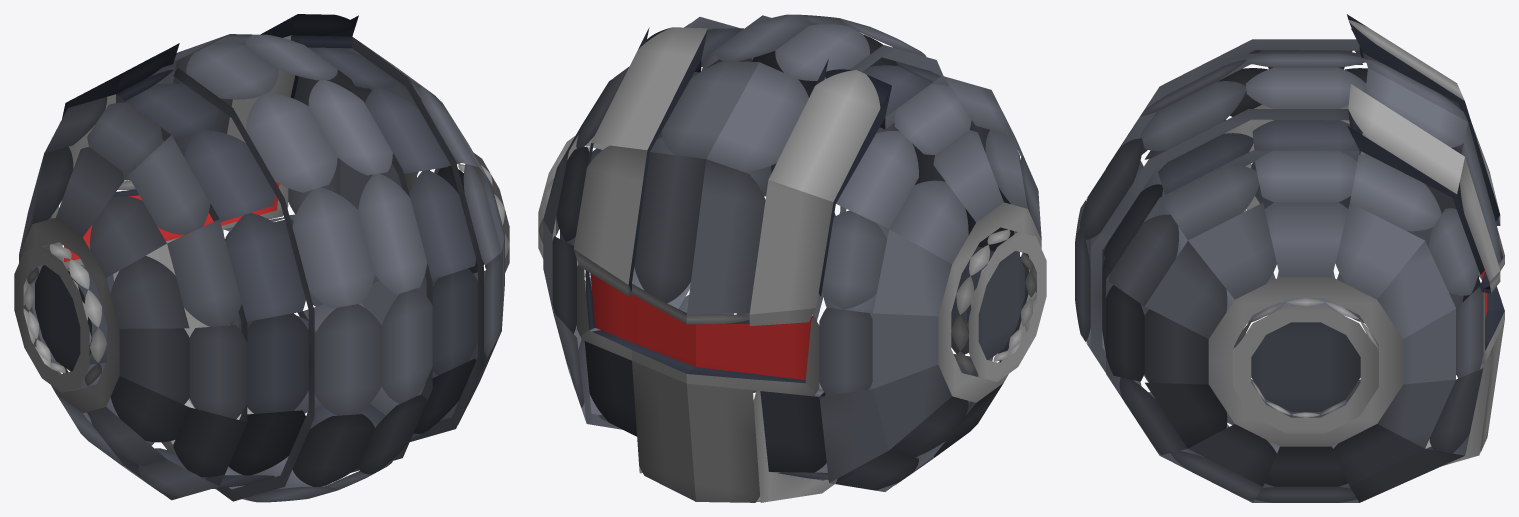
Rendered from Charge Head.obj.
3 renders of one model, left to right at view 1: azimuth 30°, elevation 25°; view 2: azimuth 150°, elevation 25°; view 3: azimuth 270°, elevation 25°, orthographic. The views are drawn at different scales.
Parts seen in each view (by area): view 1: sphere; view 2: sphere; view 3: sphere.
Part boxes in pixels (x1=…): sphere: x1=14, y1=14, x2=509, y2=502; sphere: x1=538, y1=14, x2=1046, y2=502; sphere: x1=1075, y1=14, x2=1504, y2=502.
Size of the model in its own units: 0.4557 by 0.45 by 0.4188.
1 material, 1 textured.
